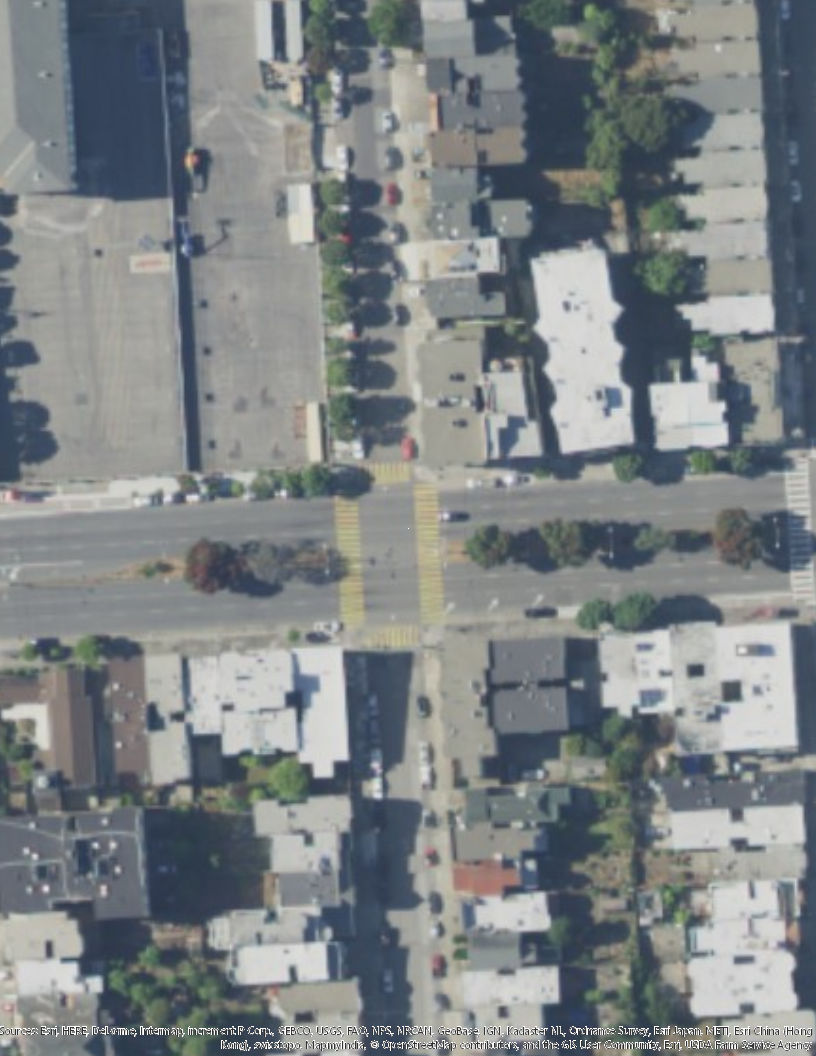zebracross: (409, 486, 449, 628), (334, 495, 370, 624), (784, 454, 812, 601), (363, 621, 423, 653), (352, 463, 414, 488)
